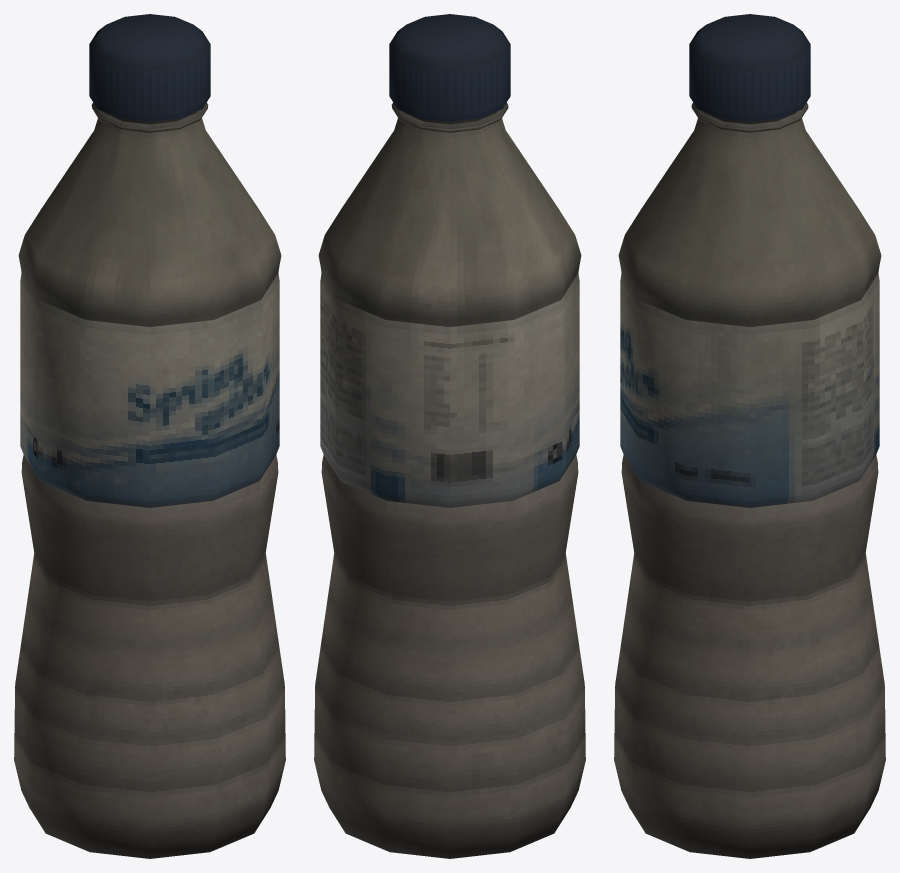
Rendered from plastic_bottle_mx_1.glb.
The picture shows the model from 3 angles, left to right: view 1: azimuth 30°, elevation 25°; view 2: azimuth 150°, elevation 25°; view 3: azimuth 270°, elevation 25°; orthographic projection.
Visible parts, largest first — view 1: plastic_bottle_mx_1; view 2: plastic_bottle_mx_1; view 3: plastic_bottle_mx_1.
Part boxes in pixels (left/top/right/bottom): plastic_bottle_mx_1: left=14, top=14, right=285, bottom=858; plastic_bottle_mx_1: left=314, top=14, right=585, bottom=858; plastic_bottle_mx_1: left=614, top=14, right=885, bottom=858.
Bounding box in the file's own units: 0.1009 × 0.3194 × 0.1009.
Materials: 1 (1 with a texture image).
